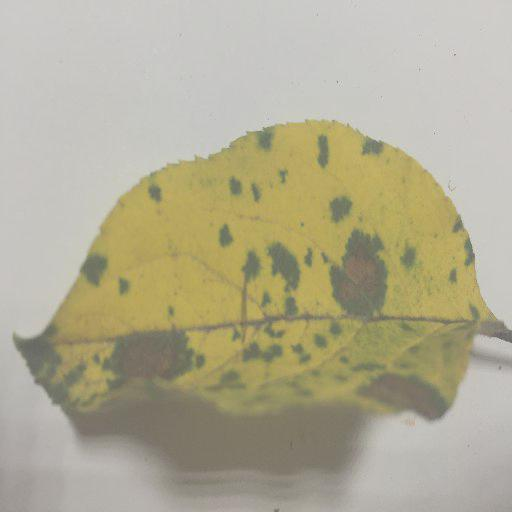Brown_Spot: (15, 340, 206, 410), (237, 247, 302, 368), (326, 240, 390, 330), (346, 371, 459, 420)
